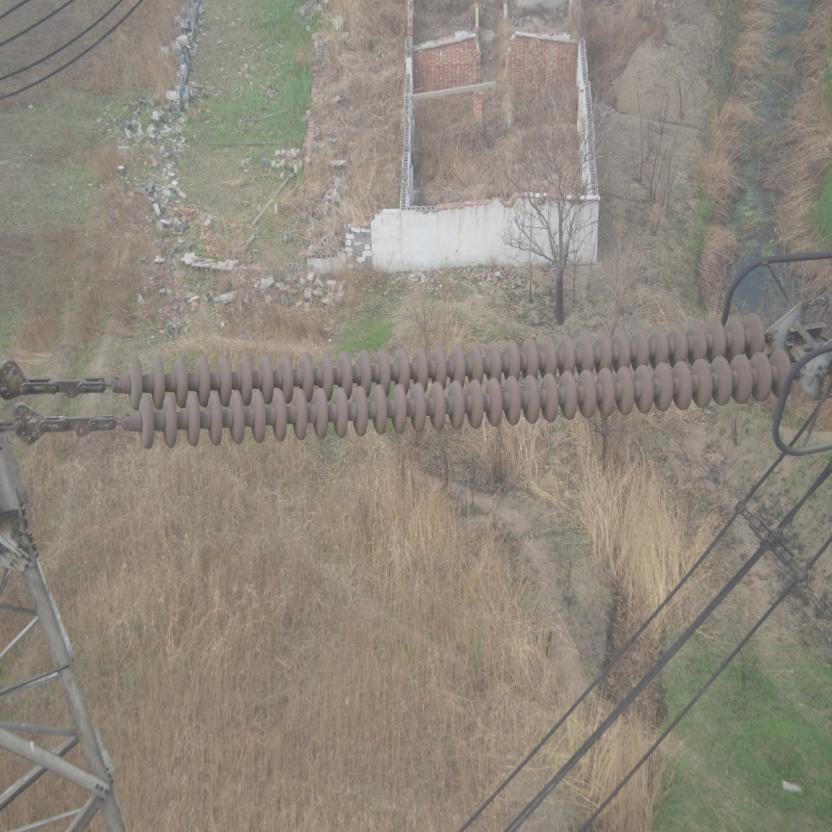insulator: (60, 312, 818, 450)
